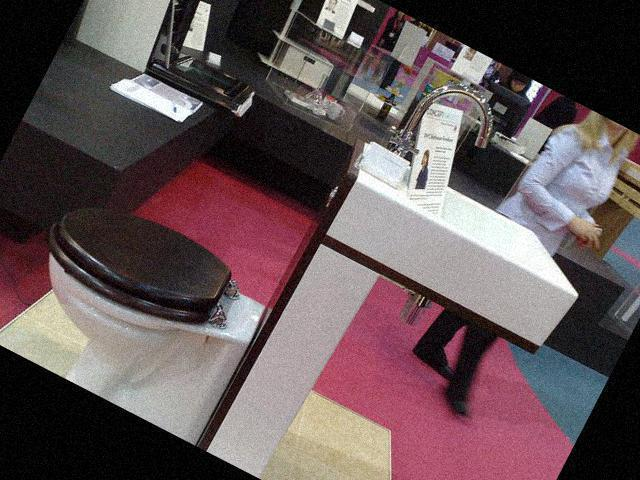Lavamanos: (325, 58, 636, 348)
